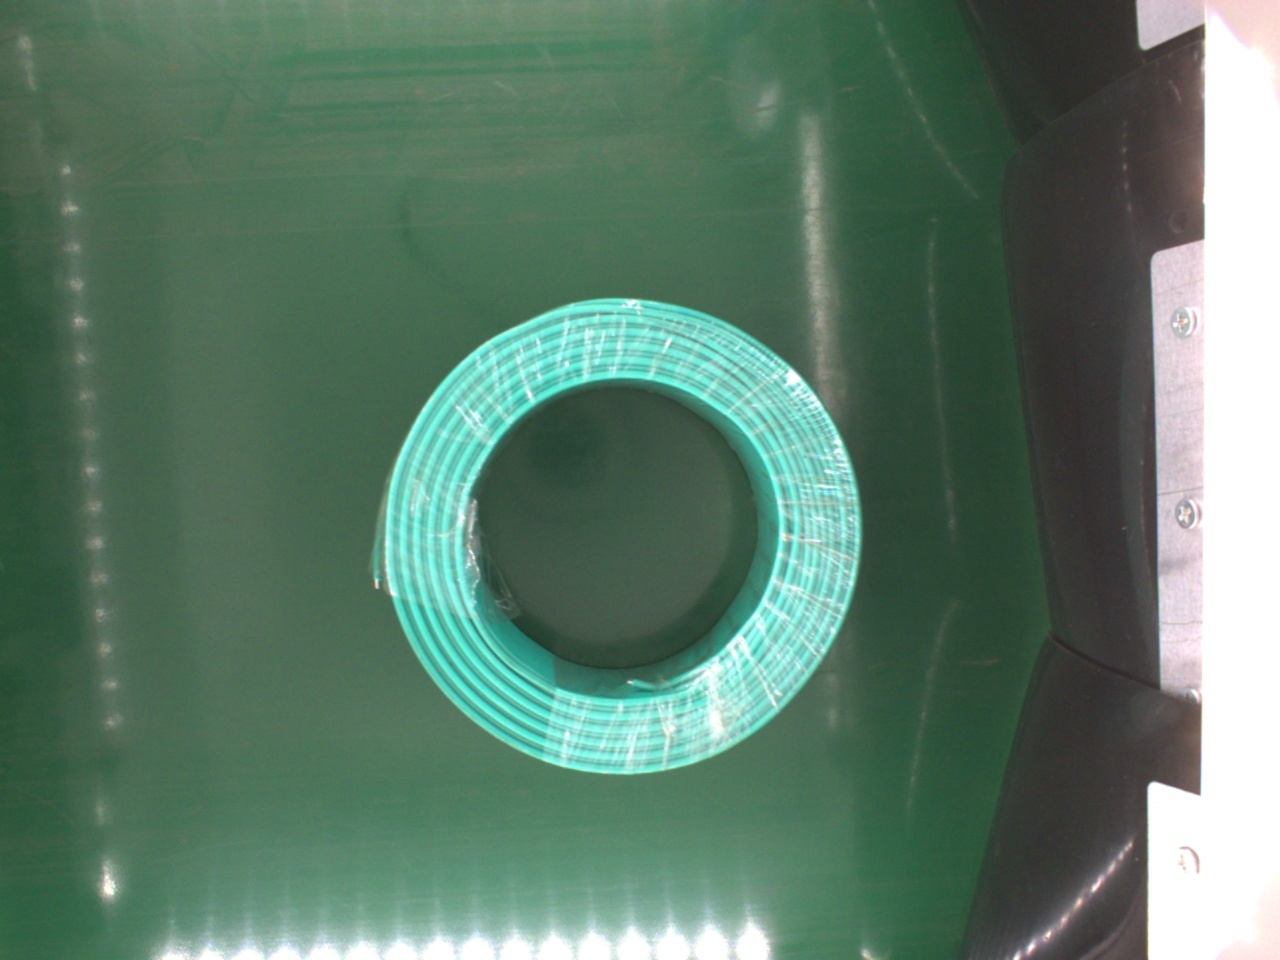green: (376, 296, 862, 781)
